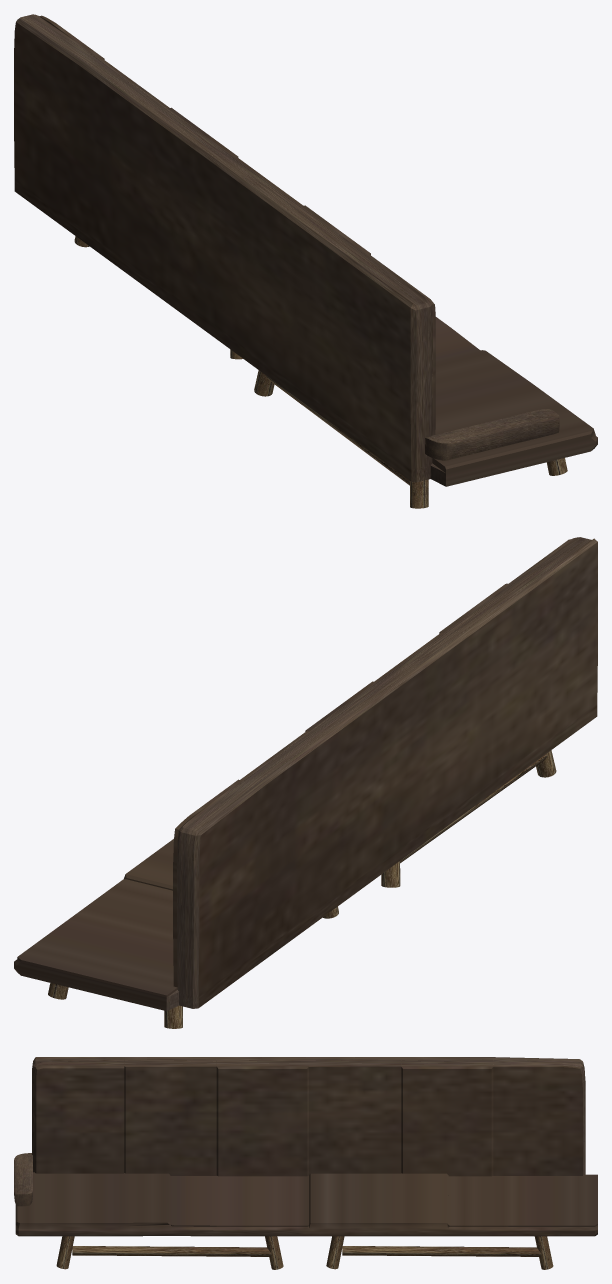
The model's file is sillonCafe.obj.
3 views of the same model, one above another, from view 1: azimuth 30°, elevation 25°; view 2: azimuth 150°, elevation 25°; view 3: azimuth 270°, elevation 25° (orthographic). The views are drawn at different scales.
Visible parts, largest first — view 1: pCube3; view 2: pCube3; view 3: pCube3.
Part boxes in pixels (x1,y1,x2,y2): pCube3: (14, 14, 597, 508); pCube3: (14, 537, 597, 1028); pCube3: (14, 1057, 597, 1269).
Size of the model in its own units: 4.77 by 5.86 by 19.83.
Materials: 6 (6 with a texture image).
